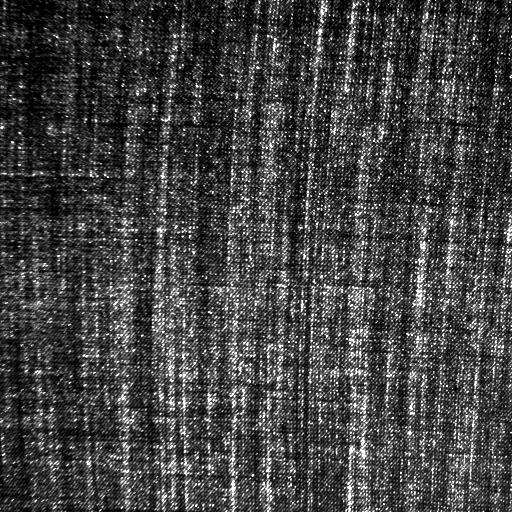fabric_perfect: (2, 6, 510, 510)
